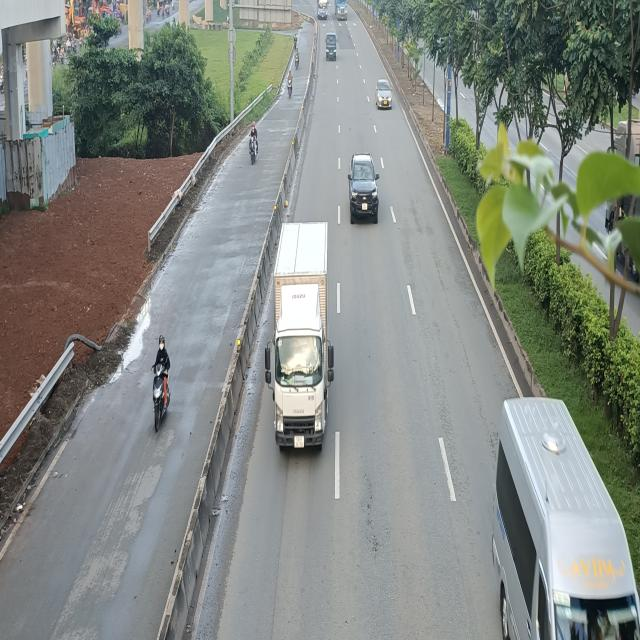car: (348, 156, 380, 225), (376, 80, 393, 110)
truck: (264, 220, 333, 455)
van: (495, 393, 640, 637)
